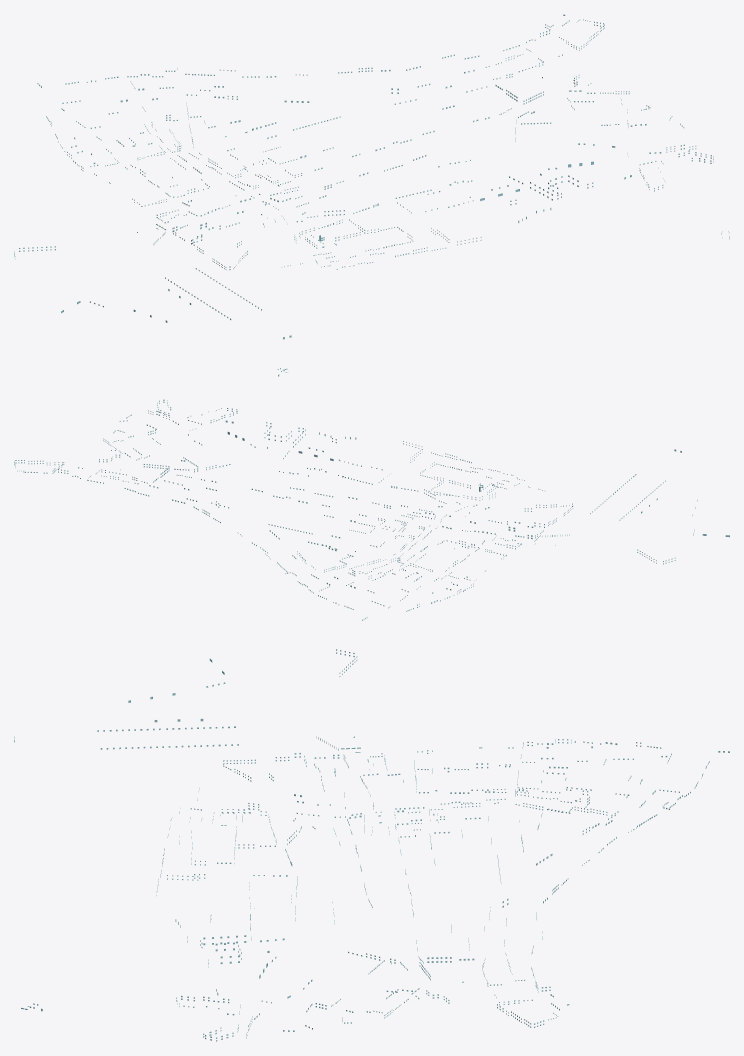
File: ventanas.glb
The picture shows the model from 3 angles, top to bottom: view 1: azimuth 30°, elevation 25°; view 2: azimuth 150°, elevation 25°; view 3: azimuth 270°, elevation 25°; orthographic projection. The views are drawn at different scales.
Parts seen in each view (by area): view 1: ventanas; view 2: ventanas; view 3: ventanas.
Boxes of the visible parts, box(x1,y1,x2,y2) form: ventanas: box(14, 14, 729, 339); ventanas: box(14, 368, 729, 620); ventanas: box(14, 649, 729, 1041).
Size of the model in its own units: 1230 by 71.05 by 956.
